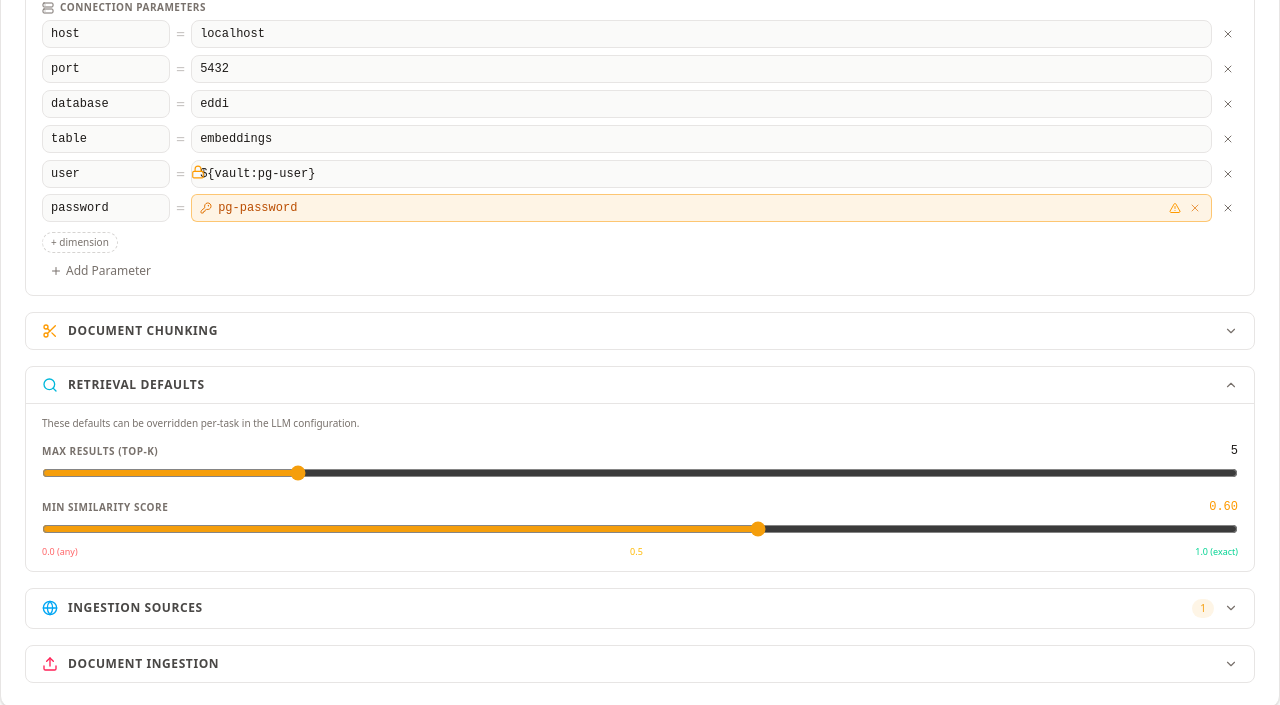
Test: RAG ingestion sources › previews a source without embedding anything
(page scrolled)
Click the button "Ingestion Sources 1" at (135, 608), box [26,588,1254,628]
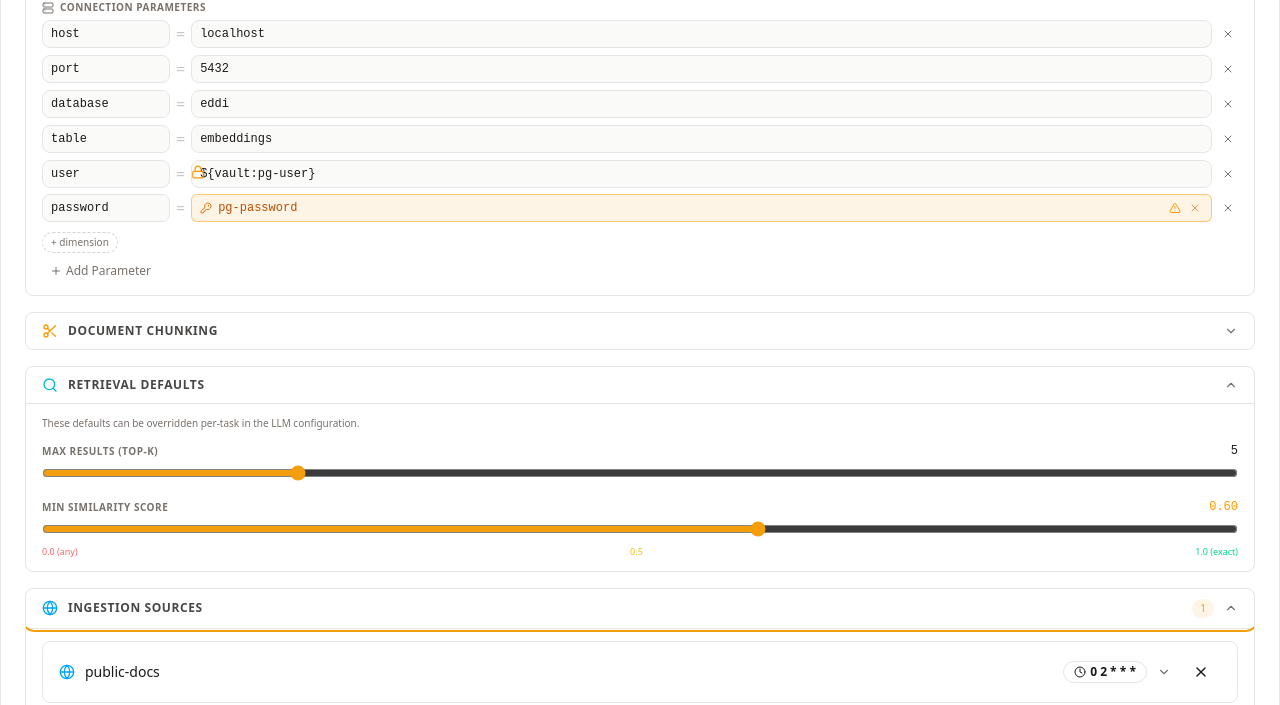
Result: the element with test id "ingestion-source-0" is shown at [42,640,1238,702]
Click the button with test id "ingestion-source-0-toggle" at (122, 671), box [59,660,1171,682]
(page scrolled)
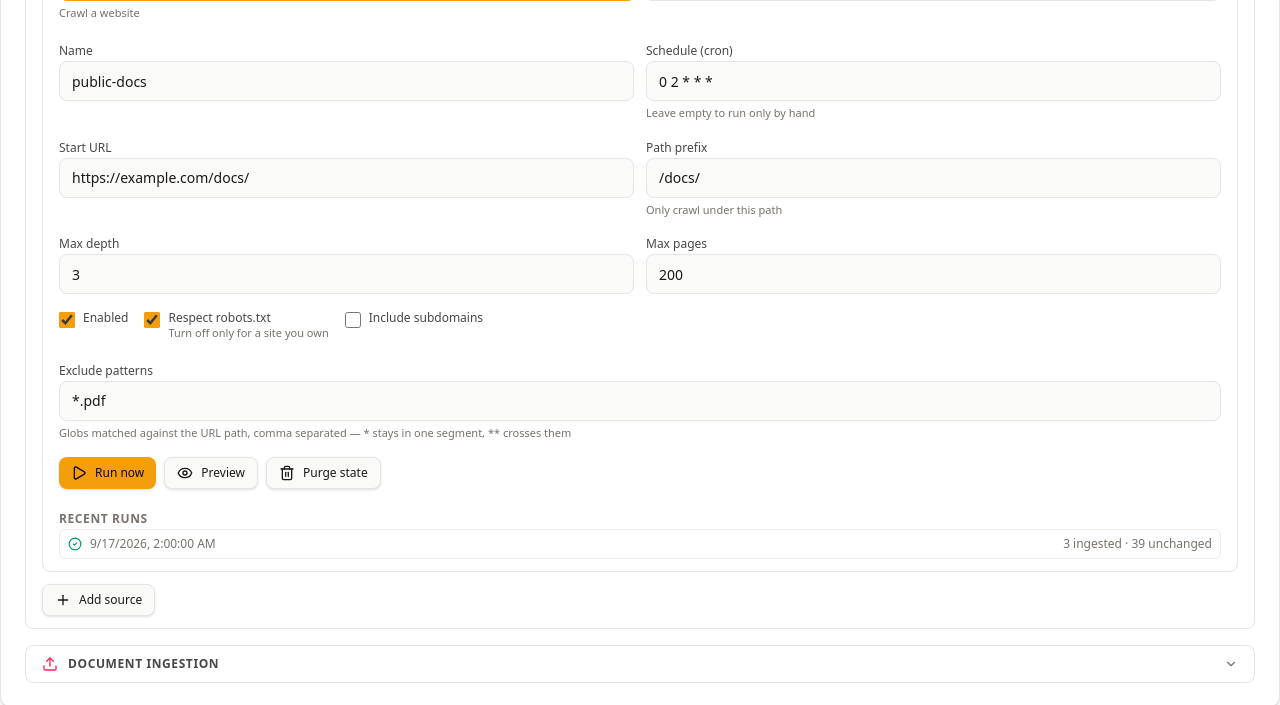
Click the button with test id "ingestion-source-0-preview" at (211, 473), box [164,457,258,489]
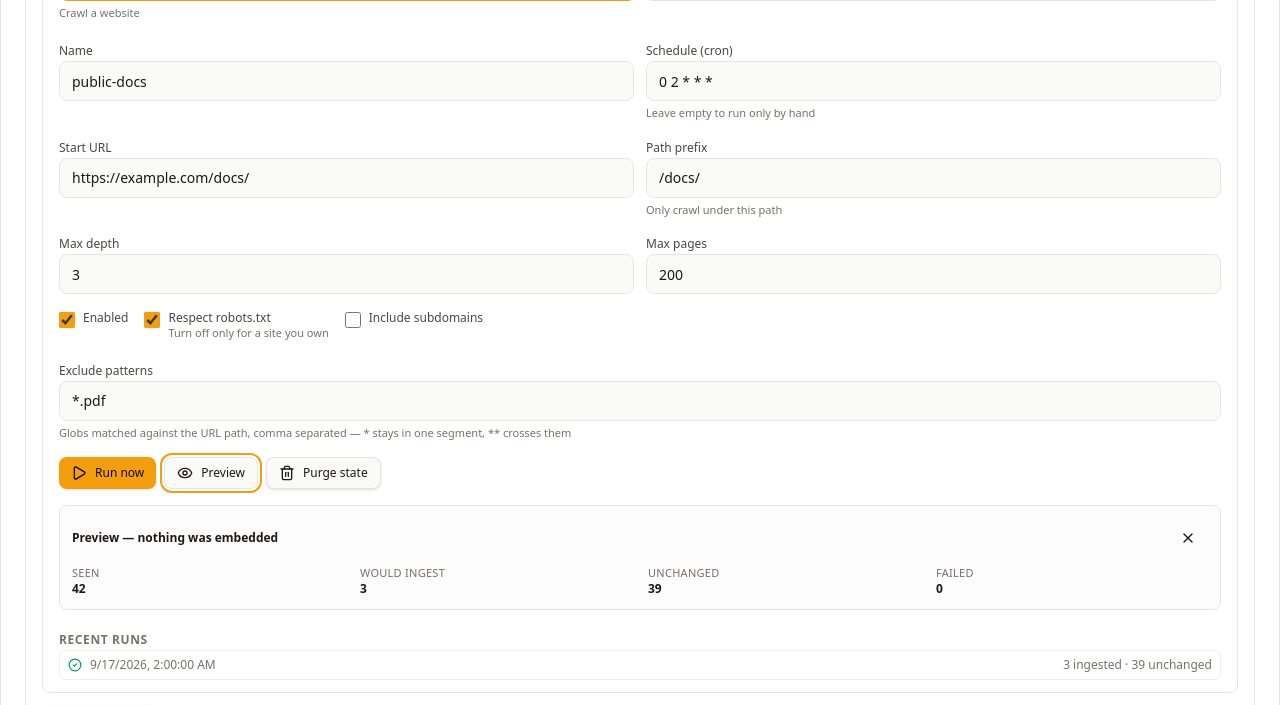
Result: the text "Preview — nothing was embedded" is shown at [72,530,278,546]
